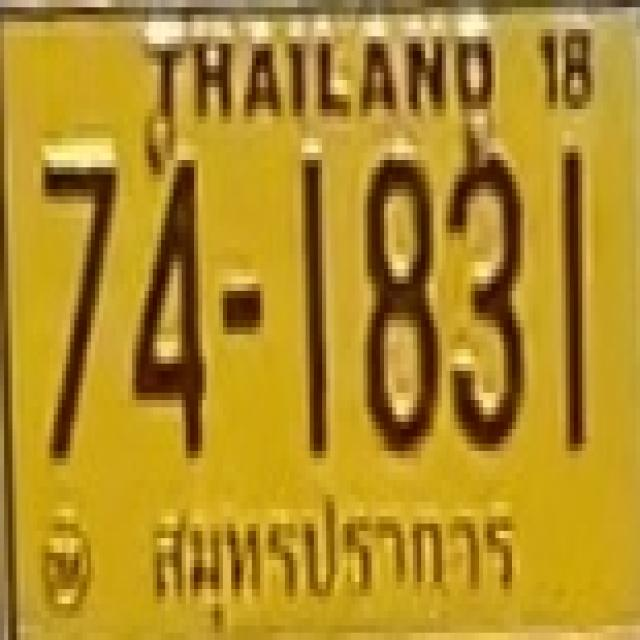1: (299, 153, 324, 451), (558, 142, 582, 447)
3: (446, 146, 520, 444)
4: (128, 153, 202, 451)
7: (37, 156, 116, 454)
8: (364, 152, 434, 444)
SPK: (136, 488, 535, 609)
